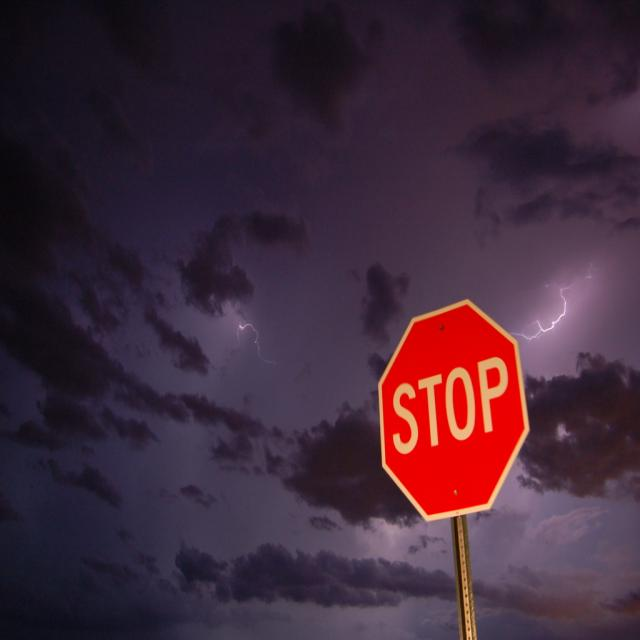Stop-sign: (380, 300, 528, 518)
